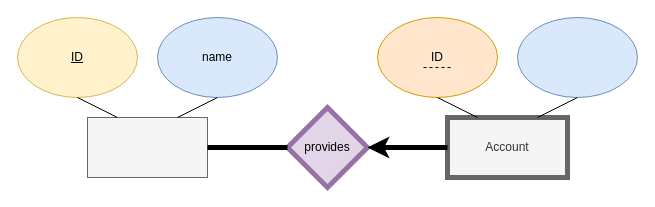
This 655x207 diagram has some shape labels left out. The shapes that lost their labels are listed below. From the top down, each one's centre as x and y in pixels, then its label:
At point (577, 57): "owner".
At point (147, 147): "Bank".
